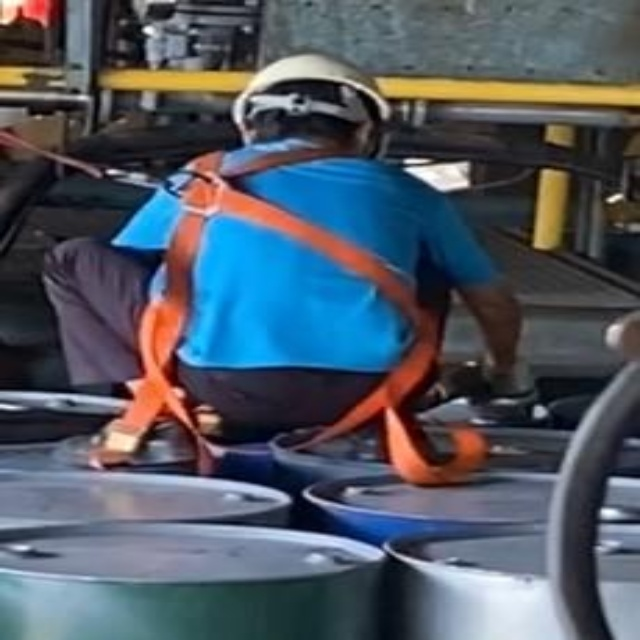Arnes_seguridad: (105, 147, 487, 487)
